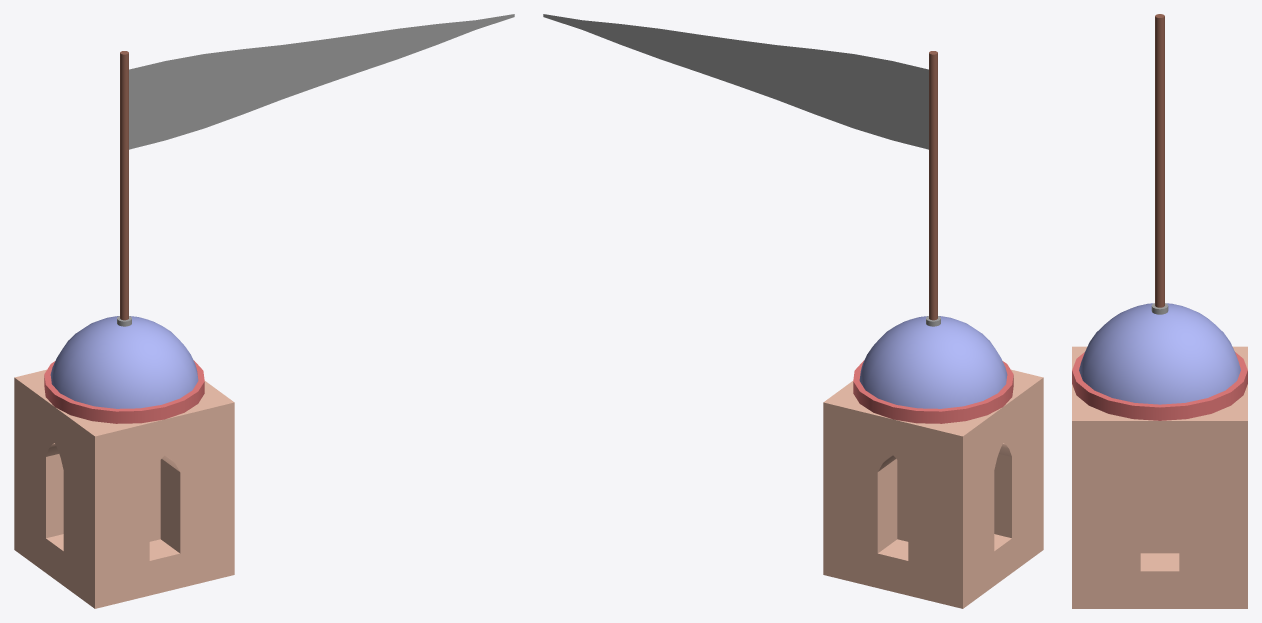
File: flag_02.fbx
3 renders of one model, left to right at view 1: azimuth 30°, elevation 25°; view 2: azimuth 150°, elevation 25°; view 3: azimuth 270°, elevation 25°, orthographic. The views are drawn at different scales.
Parts seen in each view (by area): view 1: polySurface5, pPlane1; view 2: polySurface5, pPlane1; view 3: polySurface5.
Part boxes in pixels (left/top/right/bottom): polySurface5: left=14, top=51, right=234, bottom=608; pPlane1: left=129, top=14, right=514, bottom=149; polySurface5: left=823, top=51, right=1043, bottom=608; pPlane1: left=543, top=14, right=928, bottom=149; polySurface5: left=1072, top=14, right=1247, bottom=608.
Bounding box in the file's own units: 5.93 × 6.28 × 1.8.
